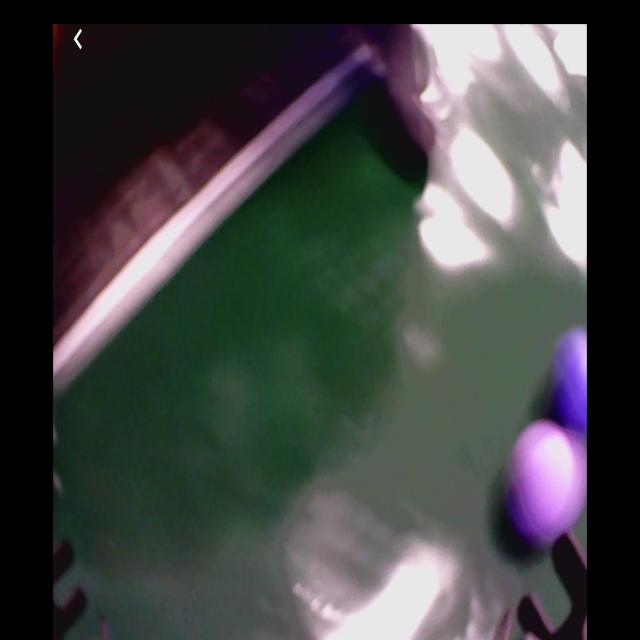ball: (510, 424, 584, 543), (555, 324, 589, 439)
